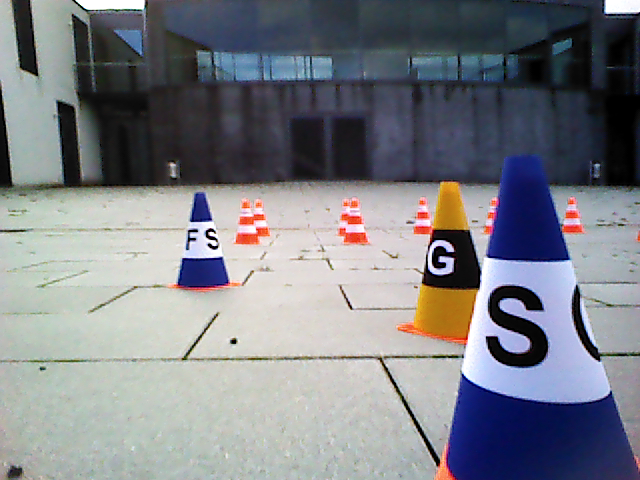bluecone: (453, 152, 628, 480), (178, 189, 227, 288)
orangeconesmall: (236, 198, 260, 245), (345, 200, 364, 243), (562, 196, 581, 234), (416, 199, 432, 233), (255, 202, 269, 235)
yellowcone: (413, 180, 479, 340)
